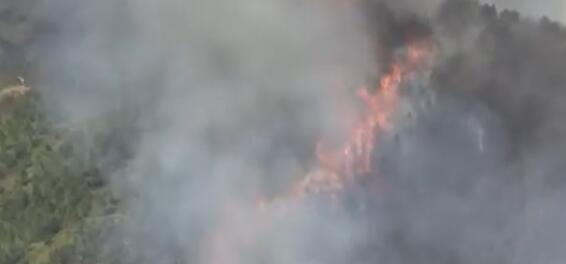fire: (260, 40, 433, 213)
yanwu: (19, 1, 564, 262)
